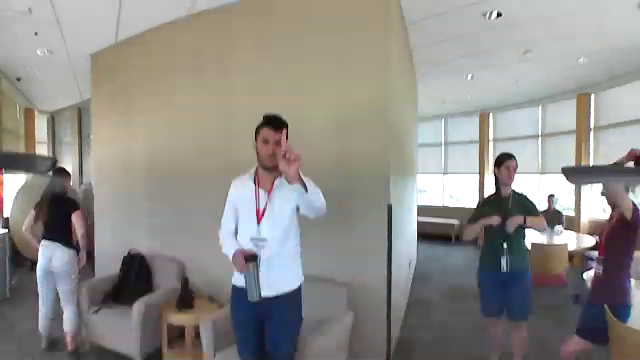up: (276, 124, 301, 175)
